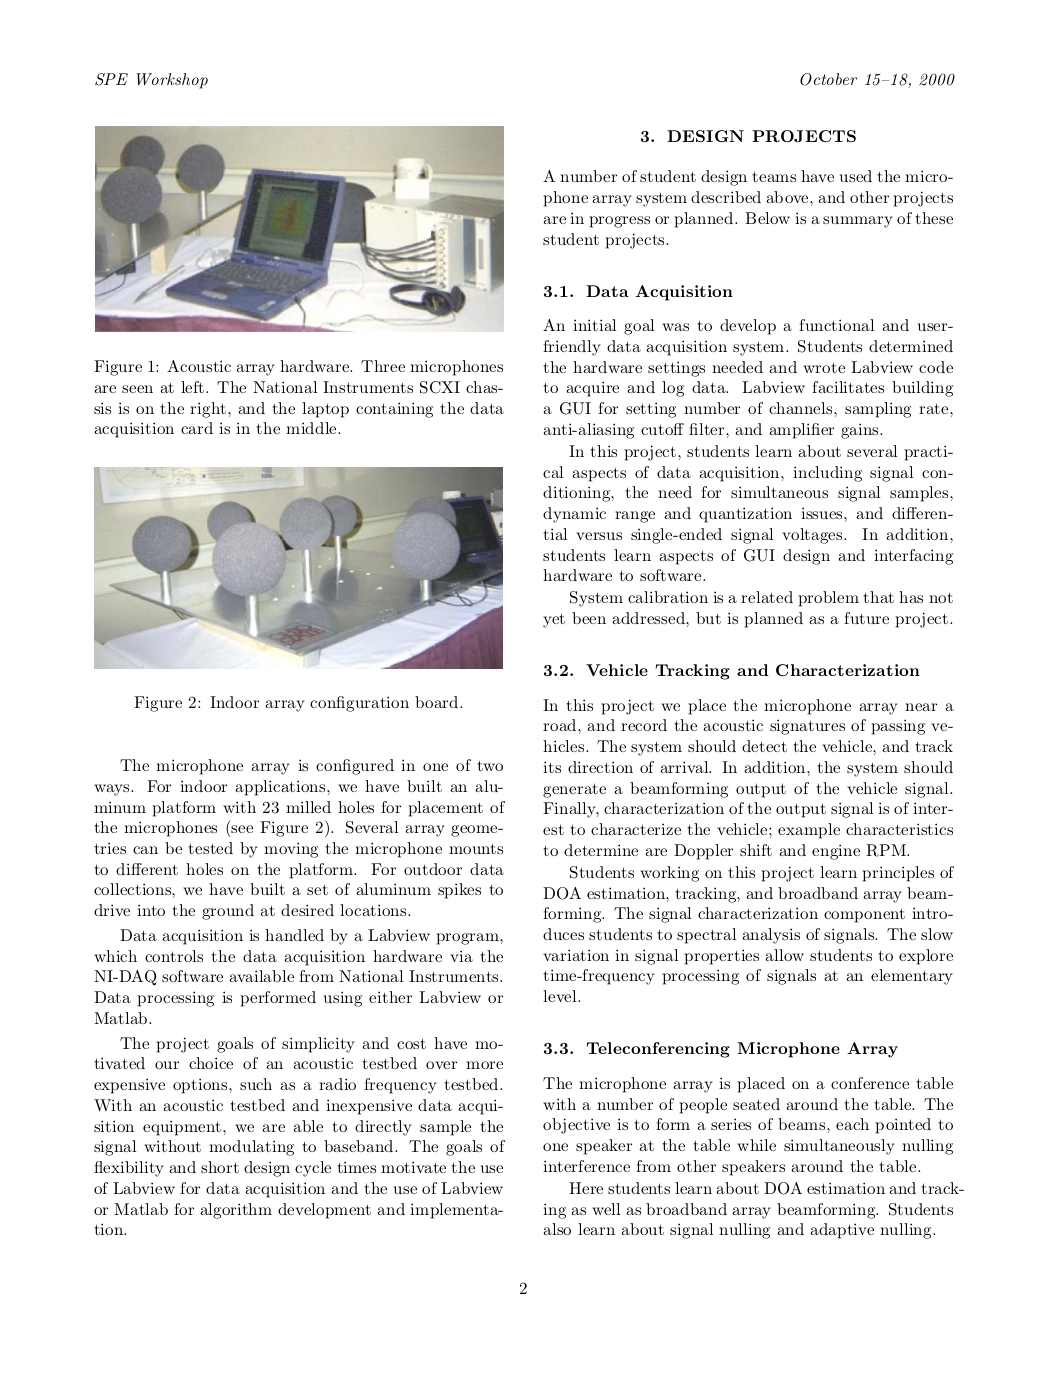figure: (95, 125, 503, 332), (94, 465, 502, 669)
